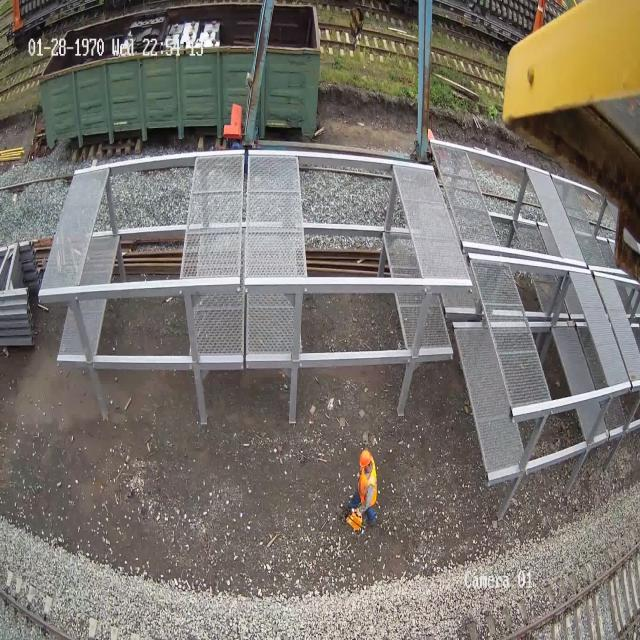Helmet: (359, 449, 371, 468)
Person: (346, 448, 378, 528)
